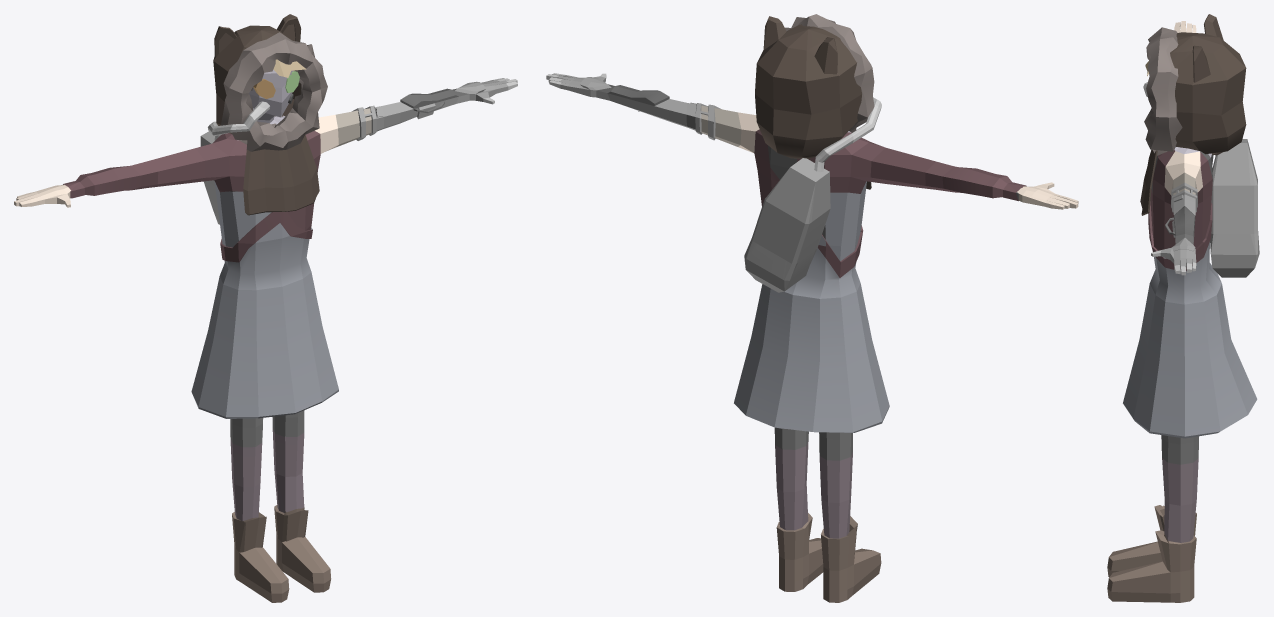
File: LuciaModel.fbx
3 renders of one model, left to right at view 1: azimuth 30°, elevation 25°; view 2: azimuth 150°, elevation 25°; view 3: azimuth 270°, elevation 25°, orthographic. The views are drawn at different scales.
Visible parts, largest first — view 1: polySurface5; view 2: polySurface5; view 3: polySurface5.
Boxes of the visible parts, x1,y1,x2,y2 form: polySurface5: (14, 14, 517, 602); polySurface5: (546, 14, 1078, 602); polySurface5: (1107, 14, 1259, 602).
Bounding box in the file's own units: 174 × 180 × 44.73.
